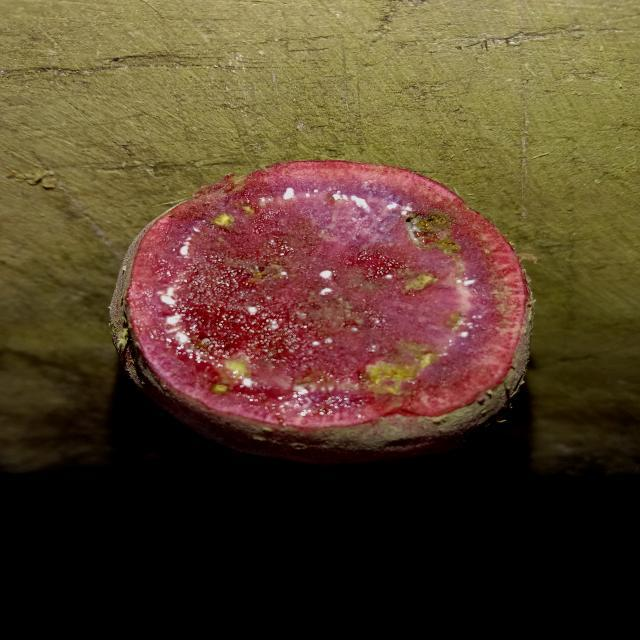Sick Sweet Potato_Tuber Rot: (127, 161, 528, 428)
